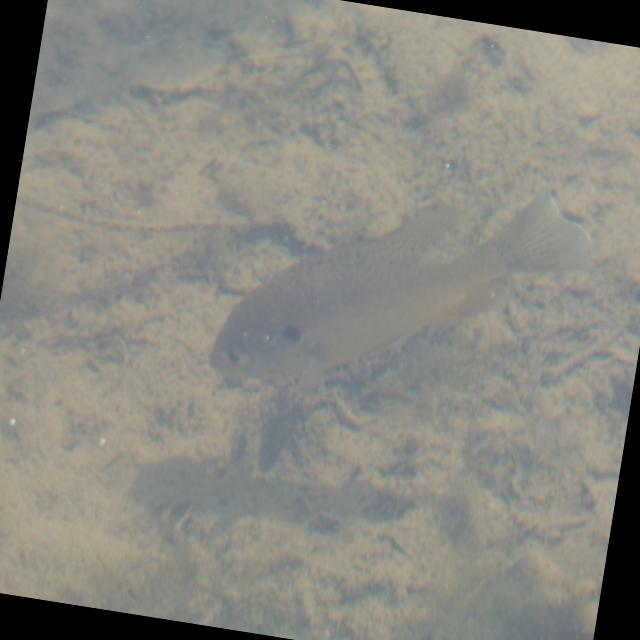Gunes Levregi: (203, 134, 604, 442)
